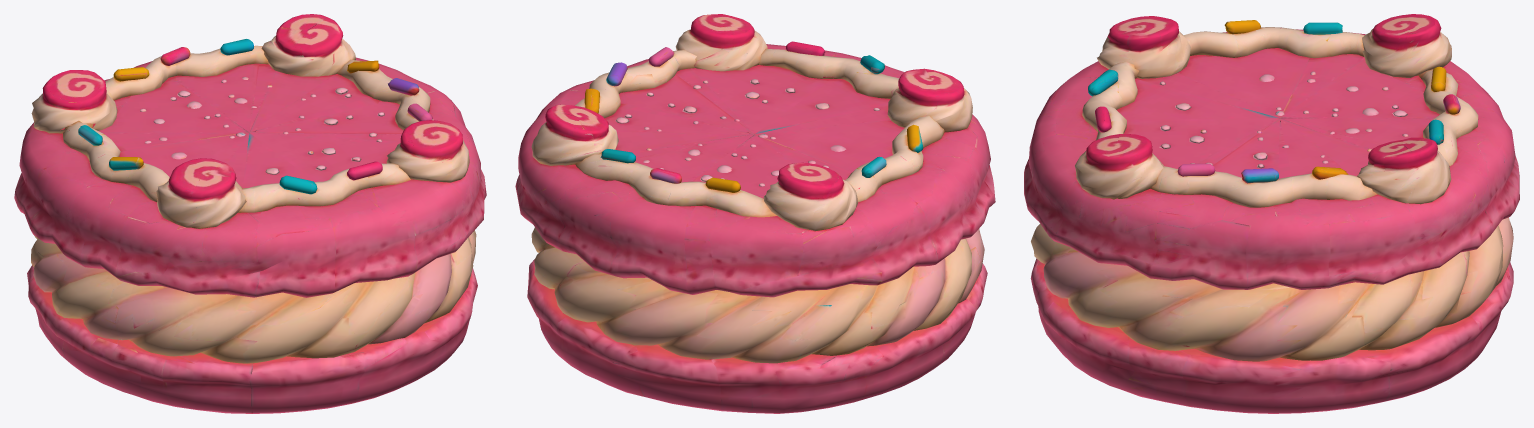
The model's file is macaron_platform.glb.
The picture shows the model from 3 angles, left to right: view 1: azimuth 30°, elevation 25°; view 2: azimuth 150°, elevation 25°; view 3: azimuth 270°, elevation 25°; orthographic projection. The views are drawn at different scales.
Size of what is drawn, in the model's own units: 1.85 by 1 by 1.83.
Materials: 1 (1 with a texture image).
